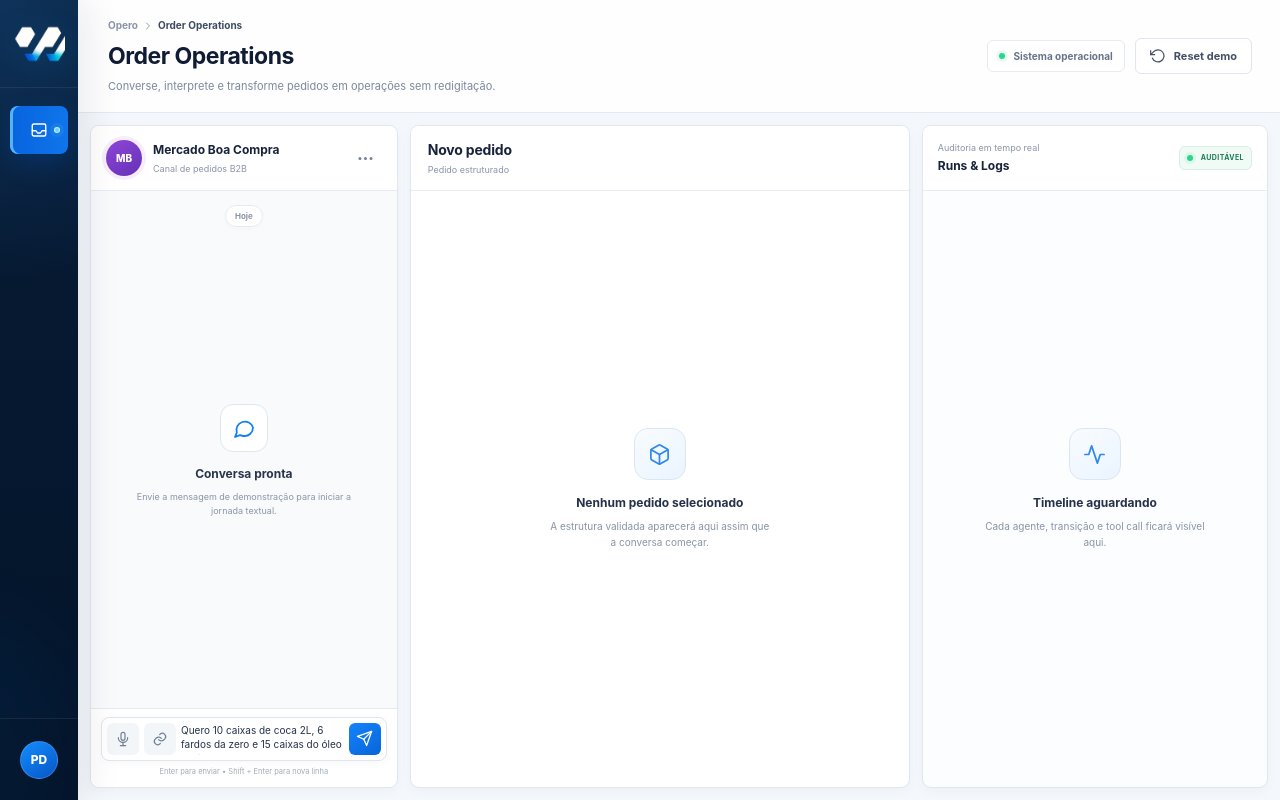
Scenario: console Opero › expõe erro recuperável sem transformar falha em sucesso
This screenshot has width=1280, height=800.
Click the button named "Enviar mensagem" at x=365, y=739, box [349,723,381,755]
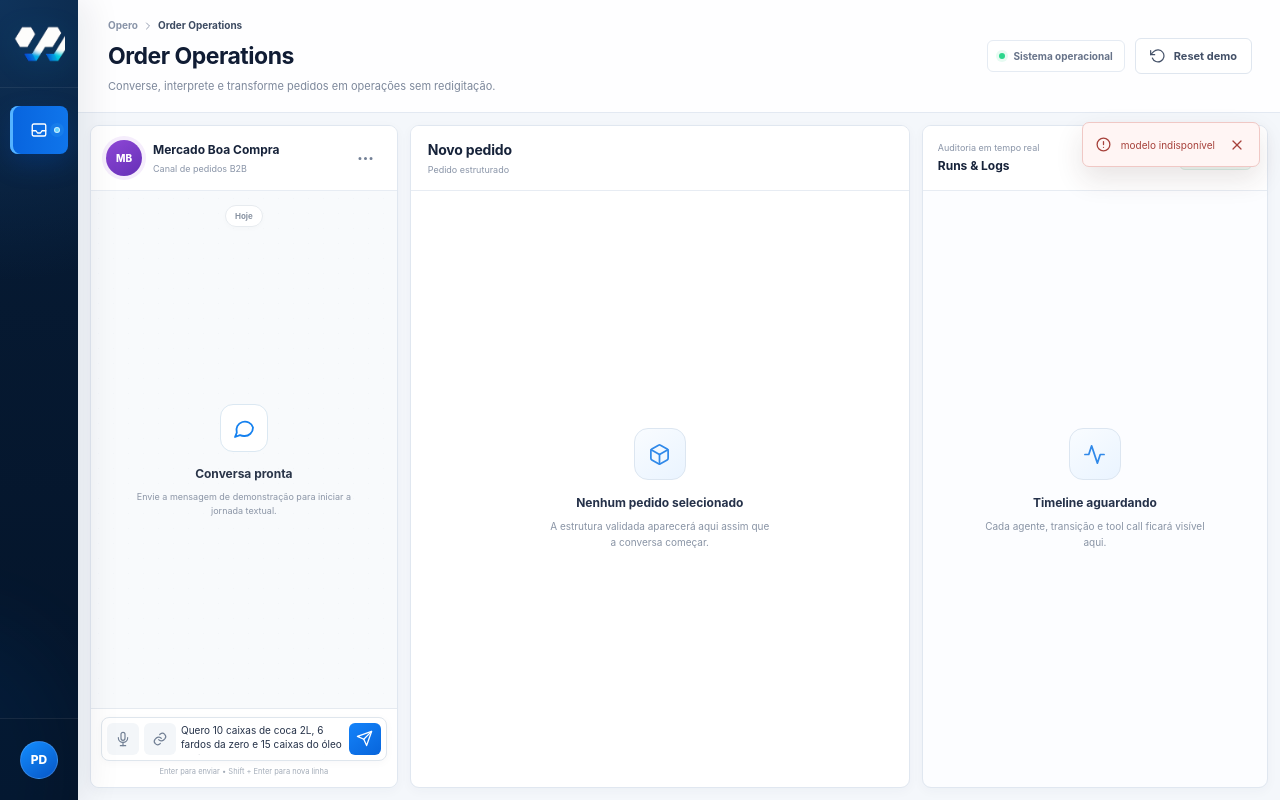
Expected: the message reads "modelo indisponível", [1121,138,1215,150]
